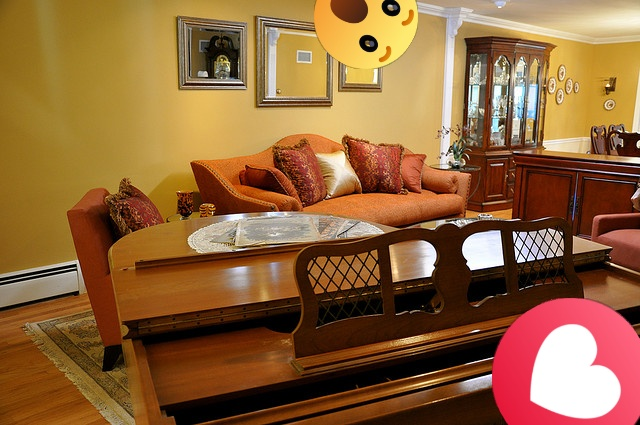love: (492, 298, 640, 425)
wow: (314, 0, 418, 69)
